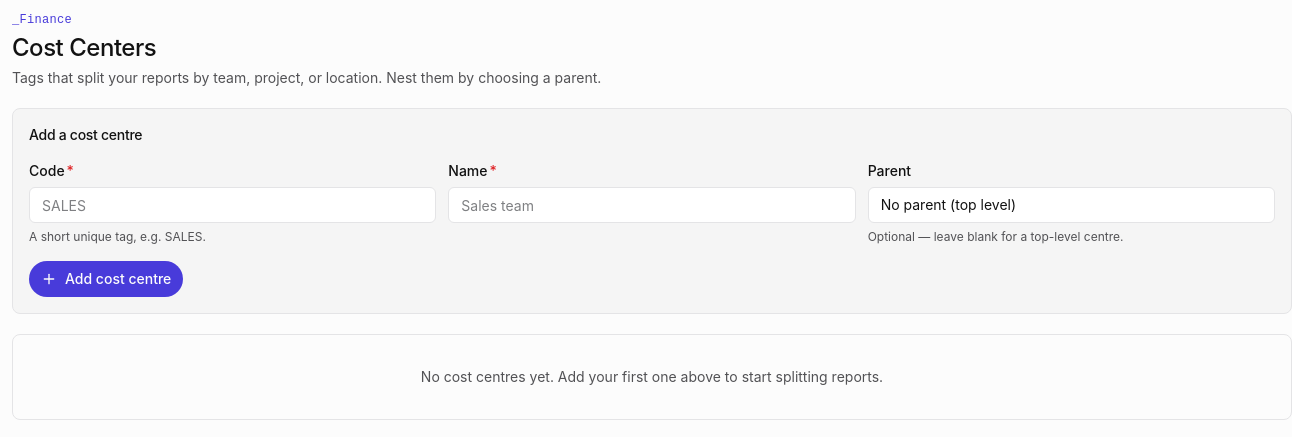
CostCentersPage › blocks submission and shows inline validation when required fields are empty
The image size is (1292, 437).
Expected: the text "No cost centres yet" is shown, x1=421 y1=368 x2=883 y2=385
Click the button "Add cost centre": (106, 279) x1=29 y1=261 x2=183 y2=297
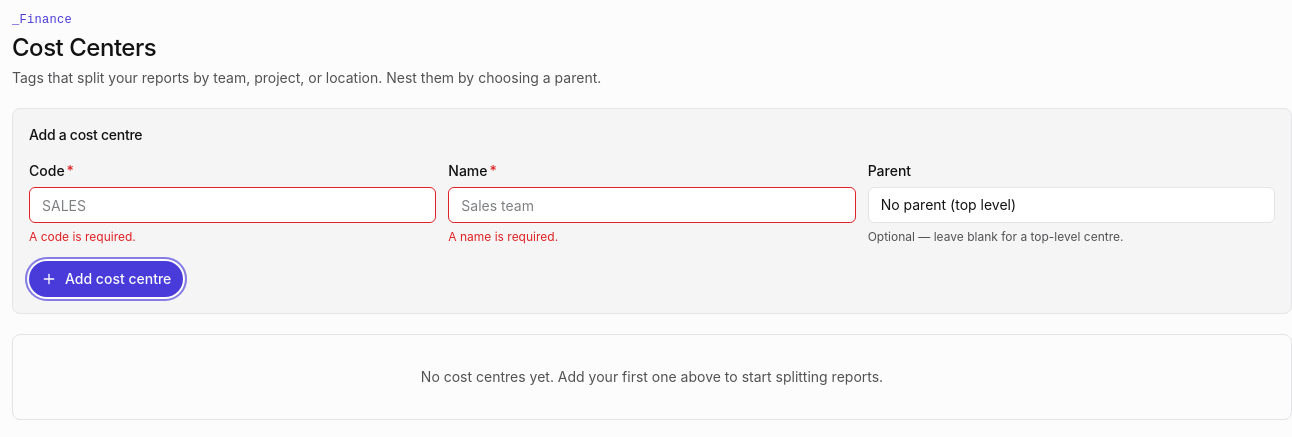
Expected: the text "A code is required." is shown, x1=29 y1=229 x2=136 y2=244
Expected: the text "A name is required." is shown, x1=448 y1=229 x2=558 y2=244
